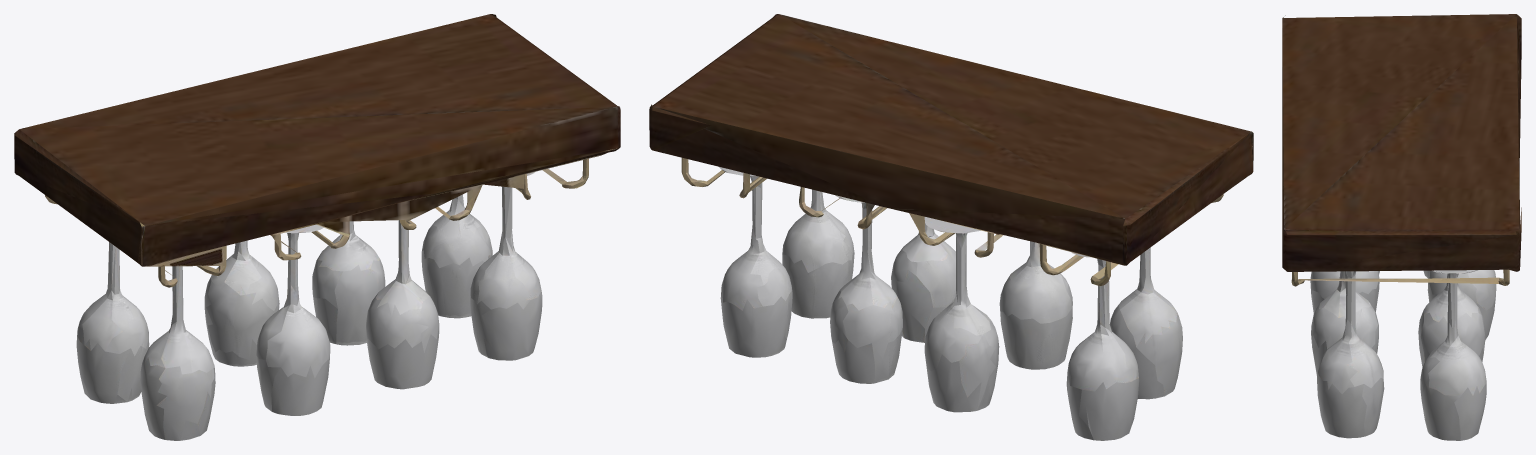
The model's file is sp_m_glassrack.glb.
The picture shows the model from 3 angles, left to right: view 1: azimuth 30°, elevation 25°; view 2: azimuth 150°, elevation 25°; view 3: azimuth 270°, elevation 25°; orthographic projection. The views are drawn at different scales.
Visible parts, largest first — view 1: Mesh_0; view 2: Mesh_0; view 3: Mesh_0.
Part boxes in pixels (bbox=[...]): Mesh_0: bbox=[14, 14, 620, 440]; Mesh_0: bbox=[649, 14, 1253, 440]; Mesh_0: bbox=[1282, 14, 1521, 440].
Bounding box in the file's own units: 1.9 × 0.9465 × 0.8802.
Materials: 1 (1 with a texture image).
